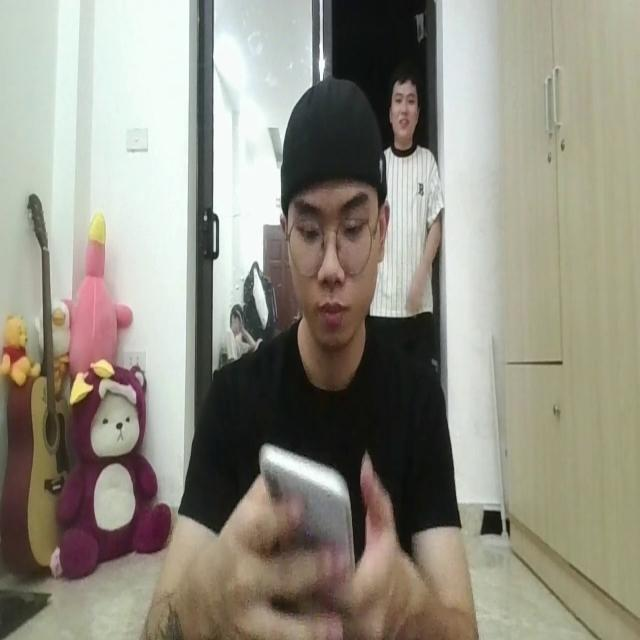extra_person: (379, 65, 442, 358)
phone: (258, 432, 353, 582)
student: (158, 73, 476, 640)
